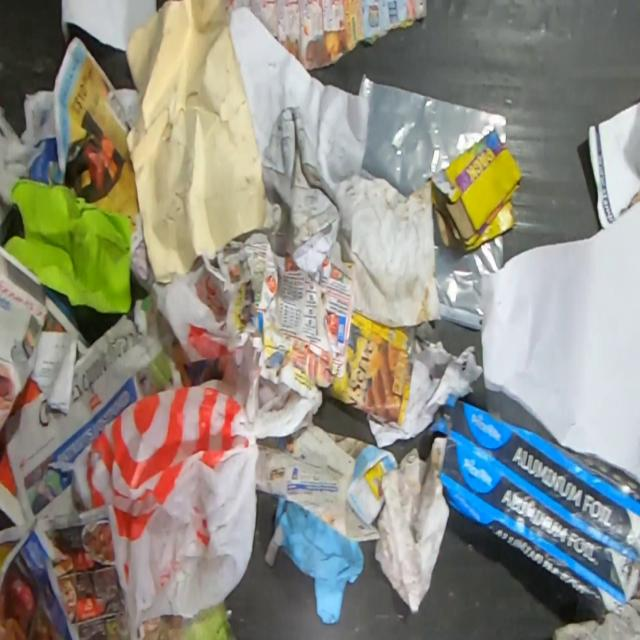cardboard: (426, 393, 640, 623), (430, 131, 523, 253), (326, 310, 414, 426)
soft_plastic: (73, 321, 324, 640), (357, 73, 507, 197), (433, 213, 504, 332)
